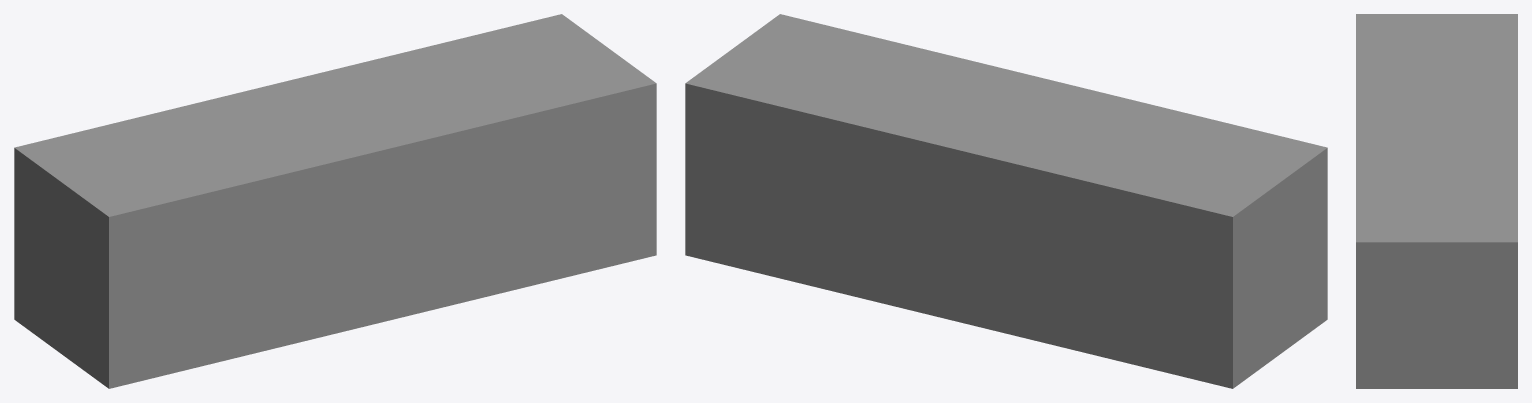
Rendered from _ramp_block.obj.
3 views of the same model, side by side, from view 1: azimuth 30°, elevation 25°; view 2: azimuth 150°, elevation 25°; view 3: azimuth 270°, elevation 25° (orthographic). The views are drawn at different scales.
Visible parts, largest first — view 1: test_block_Cube; view 2: test_block_Cube; view 3: test_block_Cube.
Part boxes in pixels (x1,y1,x2,y2): test_block_Cube: (14,14,656,388); test_block_Cube: (685,14,1327,388); test_block_Cube: (1356,14,1517,388).
Size of the model in its own units: 1 by 0.3 by 0.3.
